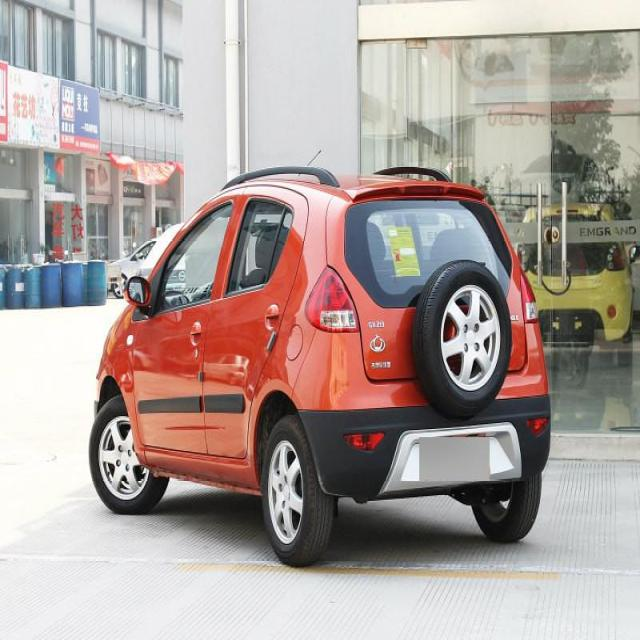back_glass: (342, 198, 514, 314)
back_left_side_light: (303, 263, 362, 333)
back_right_side_light: (519, 263, 540, 328)
door: (204, 195, 310, 457)
front_left_side_door: (130, 184, 245, 462)
front_left_side_mirror: (125, 274, 153, 315)
rear_bumper: (292, 387, 554, 496)
wheel: (418, 259, 513, 407), (260, 412, 334, 569), (88, 391, 174, 511), (471, 473, 544, 540)
